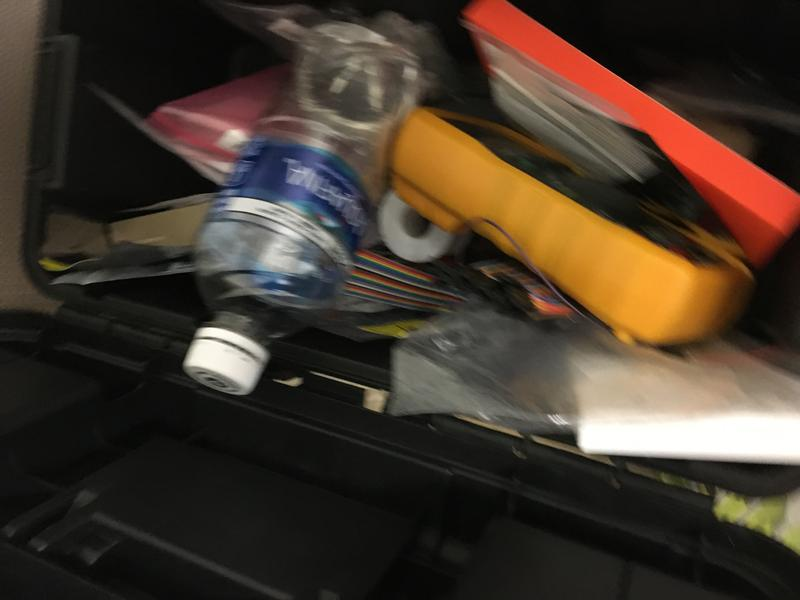bottle: (182, 15, 422, 397)
